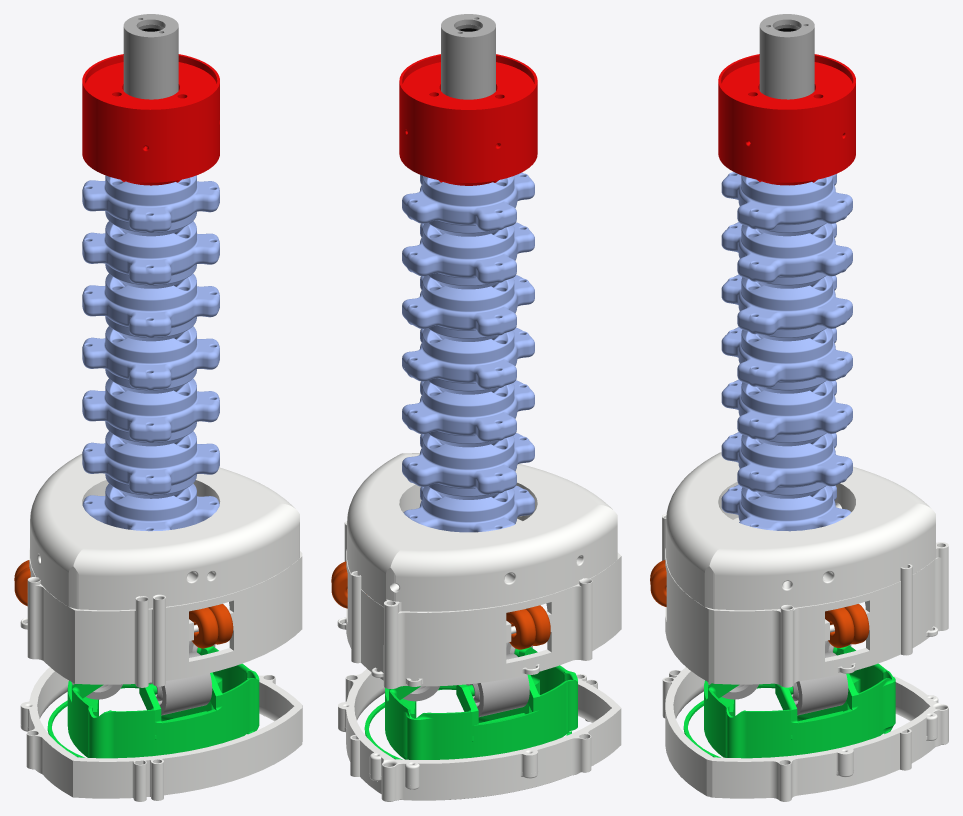
File: hybrid-robot.glb
3 views of the same model, side by side, from view 1: azimuth 30°, elevation 25°; view 2: azimuth 150°, elevation 25°; view 3: azimuth 270°, elevation 25° (orthographic).
Visible parts, largest first — view 1: transitioner cap newest-1, transitioner cap newest - low end hybrid model.STL-1, Front segment with changed holes for the camera and vacuum h, triquetral roller and mag-1, Body segment hexagonal packing tmplrcrs-3, Body segment hexagonal packing tmplrcrs-5, Body segment hexagonal packing tmplrcrs-4, Body segment hexagonal packing tmplrcrs-2, Body segment hexagonal packing tmplrcrs-6, Body segment hexagonal packing tmplrcrs-7, Vortex cannon-1, Body segment hexagonal packing tmplrcrs-1 (+3 smaller); view 2: transitioner cap newest-1, transitioner cap newest - low end hybrid model.STL-1, Front segment with changed holes for the camera and vacuum h, triquetral roller and mag-1, Body segment hexagonal packing tmplrcrs-3, Body segment hexagonal packing tmplrcrs-6, Body segment hexagonal packing tmplrcrs-4, Body segment hexagonal packing tmplrcrs-2, Body segment hexagonal packing tmplrcrs-5, Body segment hexagonal packing tmplrcrs-7, Vortex cannon-1, Body segment hexagonal packing tmplrcrs-1 (+4 smaller); view 3: transitioner cap newest-1, transitioner cap newest - low end hybrid model.STL-1, Front segment with changed holes for the camera and vacuum h, triquetral roller and mag-1, Body segment hexagonal packing tmplrcrs-3, Body segment hexagonal packing tmplrcrs-5, Body segment hexagonal packing tmplrcrs-4, Body segment hexagonal packing tmplrcrs-6, Body segment hexagonal packing tmplrcrs-2, Body segment hexagonal packing tmplrcrs-7, Vortex cannon-1, Body segment hexagonal packing tmplrcrs-1 (+3 smaller).
Boxes of the visible parts, x1,y1,x2,y2 form: transitioner cap newest-1: [20, 454, 302, 687]; transitioner cap newest - low end hybrid model.STL-1: [20, 667, 302, 801]; Front segment with changed holes for the camera and vacuum h: [82, 54, 219, 185]; triquetral roller and mag-1: [47, 646, 259, 758]; Body segment hexagonal packing tmplrcrs-3: [82, 378, 219, 446]; Body segment hexagonal packing tmplrcrs-5: [82, 273, 219, 341]; Body segment hexagonal packing tmplrcrs-4: [82, 326, 219, 393]; Body segment hexagonal packing tmplrcrs-2: [82, 431, 219, 498]; Body segment hexagonal packing tmplrcrs-6: [82, 221, 219, 288]; Body segment hexagonal packing tmplrcrs-7: [82, 175, 219, 236]; Vortex cannon-1: [123, 14, 178, 99]; Body segment hexagonal packing tmplrcrs-1: [82, 483, 219, 531]; transitioner cap newest-1: [337, 453, 621, 688]; transitioner cap newest - low end hybrid model.STL-1: [338, 669, 621, 801]; Front segment with changed holes for the camera and vacuum h: [399, 54, 537, 185]; triquetral roller and mag-1: [364, 647, 577, 759]; Body segment hexagonal packing tmplrcrs-3: [402, 380, 534, 447]; Body segment hexagonal packing tmplrcrs-6: [402, 222, 534, 289]; Body segment hexagonal packing tmplrcrs-4: [402, 327, 534, 394]; Body segment hexagonal packing tmplrcrs-2: [402, 433, 534, 499]; Body segment hexagonal packing tmplrcrs-5: [402, 275, 534, 341]; Body segment hexagonal packing tmplrcrs-7: [402, 172, 534, 236]; Vortex cannon-1: [441, 14, 495, 99]; Body segment hexagonal packing tmplrcrs-1: [403, 485, 534, 532]; transitioner cap newest-1: [662, 452, 948, 687]; transitioner cap newest - low end hybrid model.STL-1: [662, 667, 948, 801]; Front segment with changed holes for the camera and vacuum h: [718, 54, 855, 185]; triquetral roller and mag-1: [683, 645, 895, 758]; Body segment hexagonal packing tmplrcrs-3: [721, 379, 852, 446]; Body segment hexagonal packing tmplrcrs-5: [721, 274, 852, 341]; Body segment hexagonal packing tmplrcrs-4: [721, 327, 852, 393]; Body segment hexagonal packing tmplrcrs-6: [721, 222, 852, 288]; Body segment hexagonal packing tmplrcrs-2: [721, 432, 852, 498]; Body segment hexagonal packing tmplrcrs-7: [721, 172, 852, 236]; Vortex cannon-1: [759, 14, 814, 99]; Body segment hexagonal packing tmplrcrs-1: [721, 484, 851, 531].
Bounding box in the file's own units: 0.0978 × 0.2757 × 0.1031.
